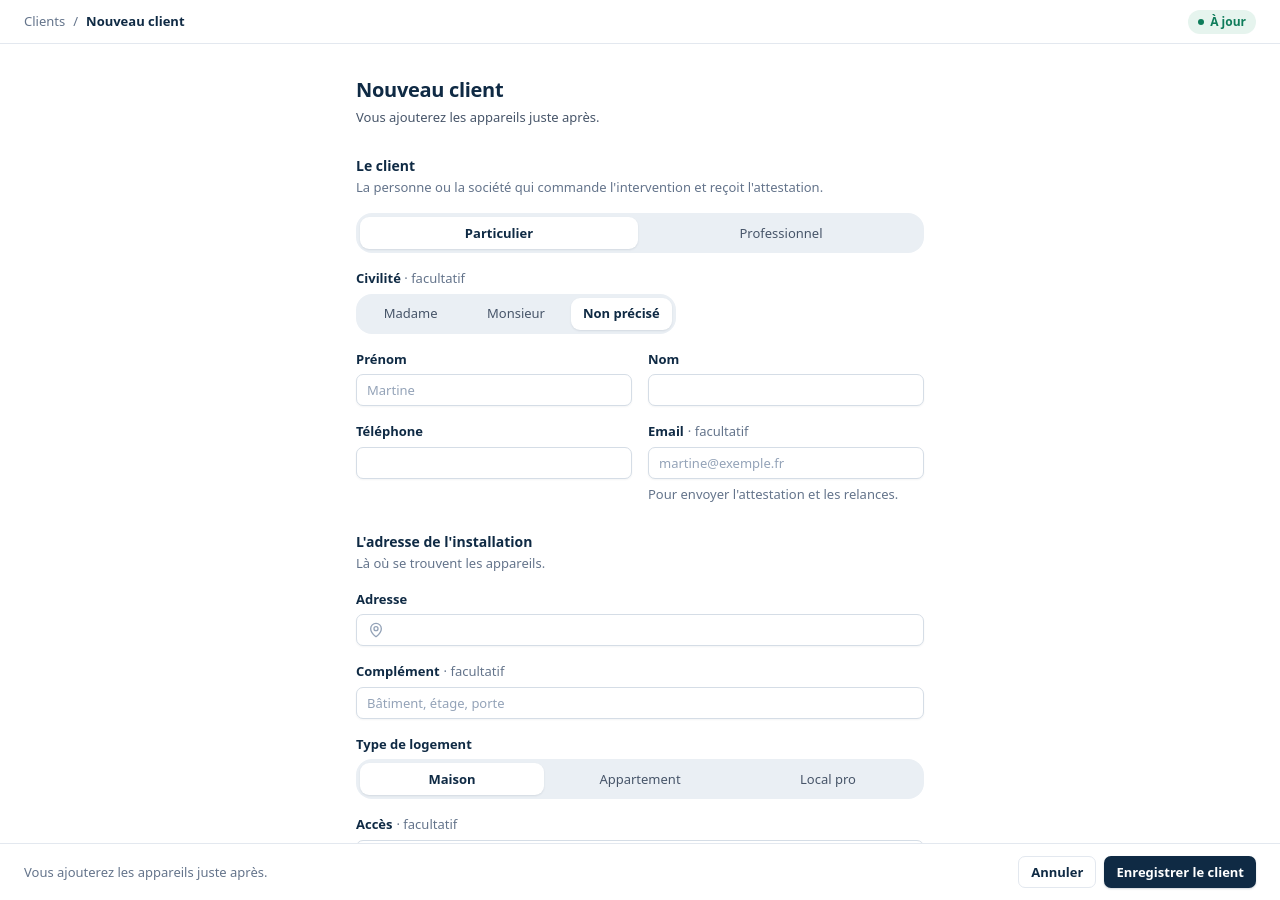
it: NewCustomerScreen › refuses an incomplete phone number, an invalid email and a short postal code
The width and height of the screenshot is (1280, 900).
In the field labelled "Nom": (786, 390) left=648, top=374, right=924, bottom=406, type "Moreau"
In the field labelled "Téléphone": (494, 463) left=356, top=447, right=632, bottom=479, type "06 12"
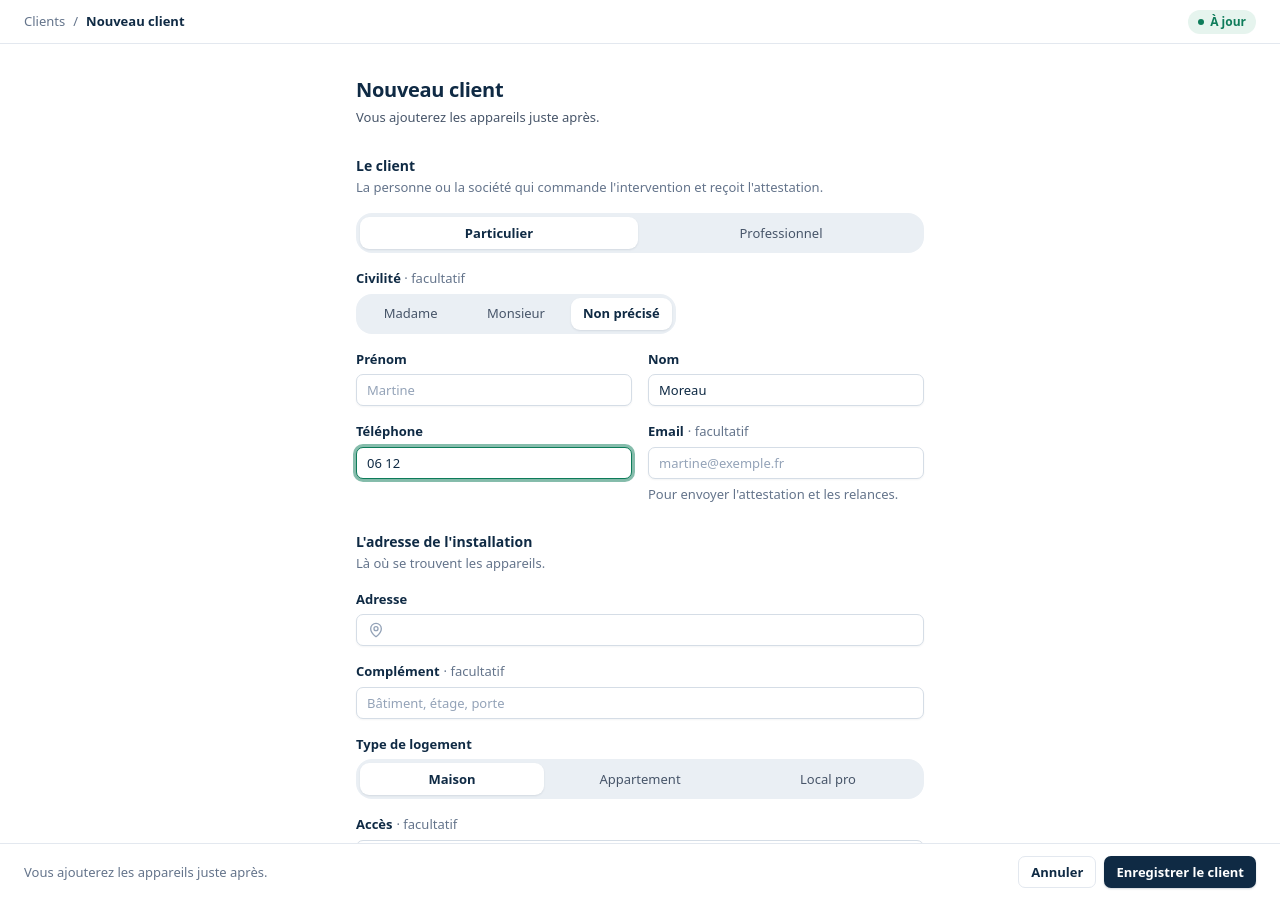
In the field labelled "Email · facultatif": (786, 463) left=648, top=447, right=924, bottom=479, type "martine@"
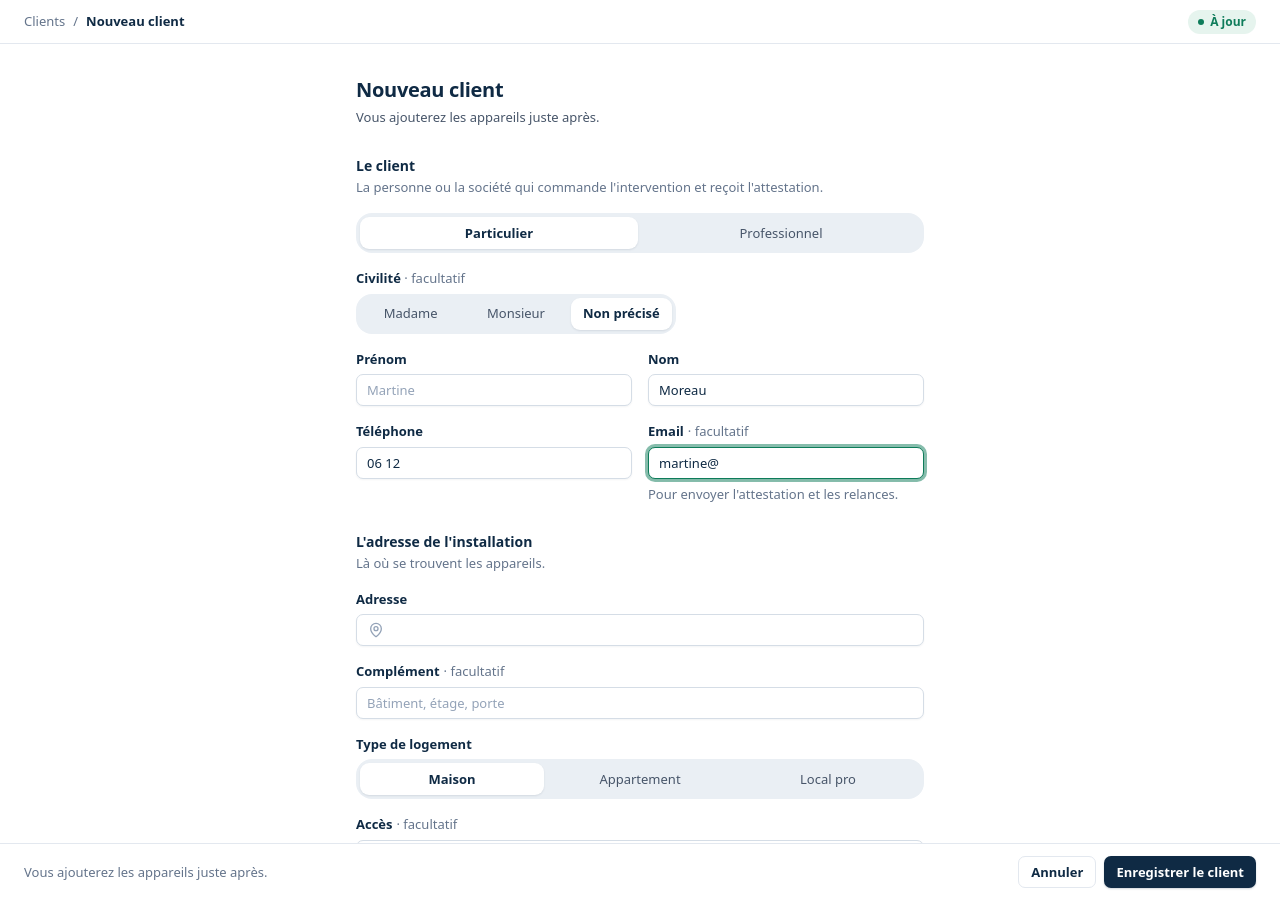
In the field labelled "Adresse": (640, 630) left=356, top=614, right=924, bottom=646, type "12 rue des Lilas"
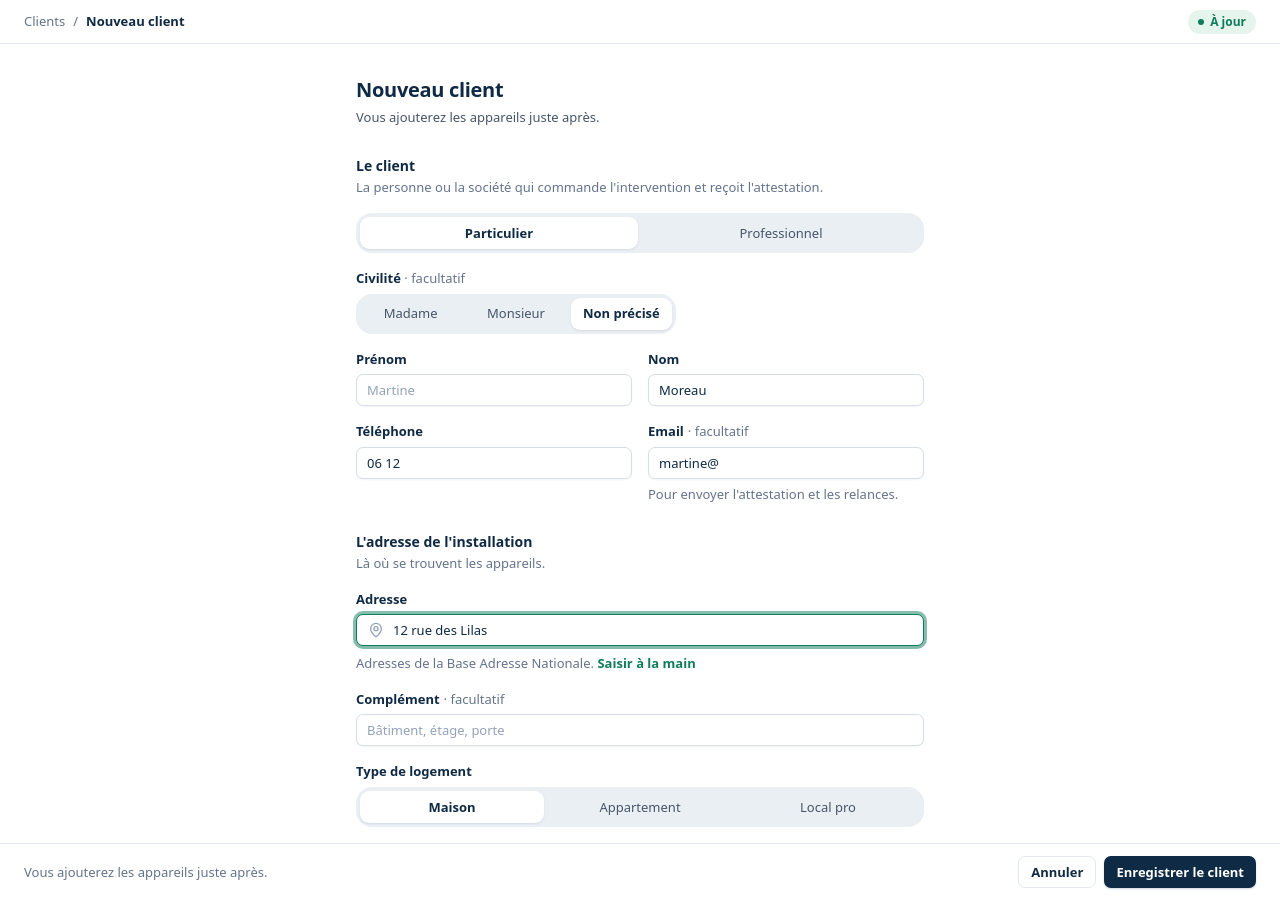
Click the button "Saisir à la main": click(647, 664) left=597, top=654, right=696, bottom=674
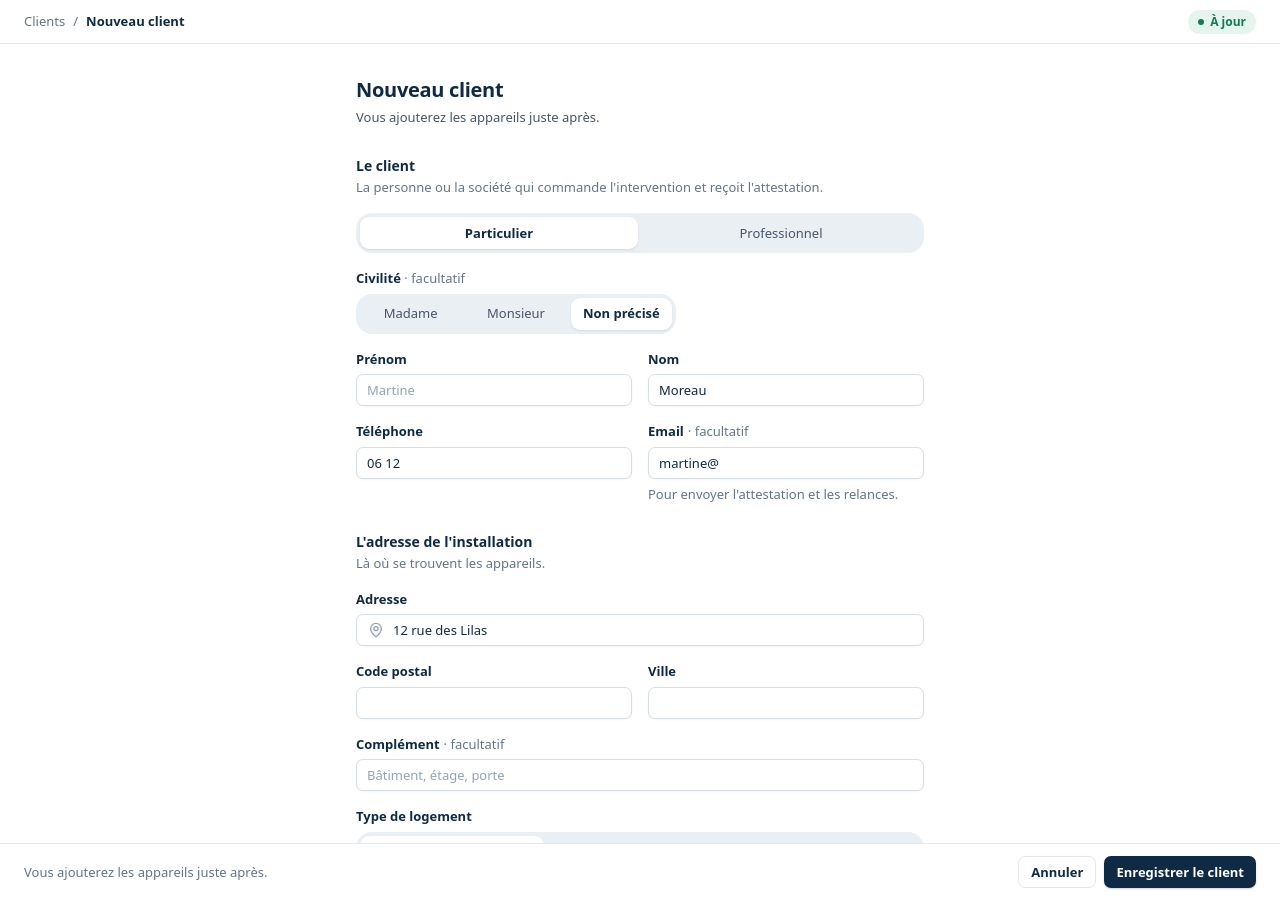
In the field labelled "Code postal": (494, 703) left=356, top=687, right=632, bottom=719, type "942"
In the field labelled "Ville": (786, 703) left=648, top=687, right=924, bottom=719, type "Ivry-sur-Seine"
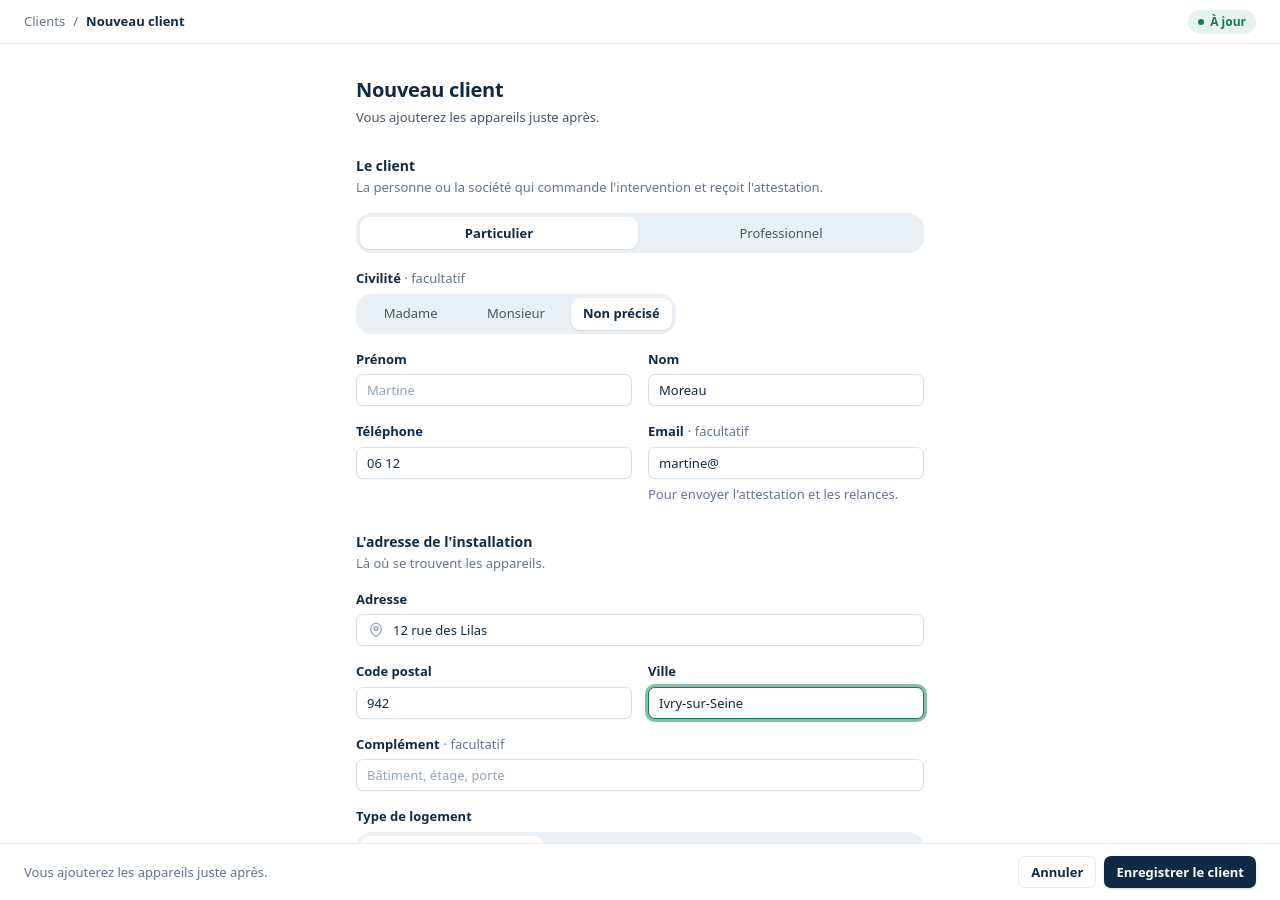
Click the button "Enregistrer le client": click(1180, 872) left=1104, top=856, right=1256, bottom=888
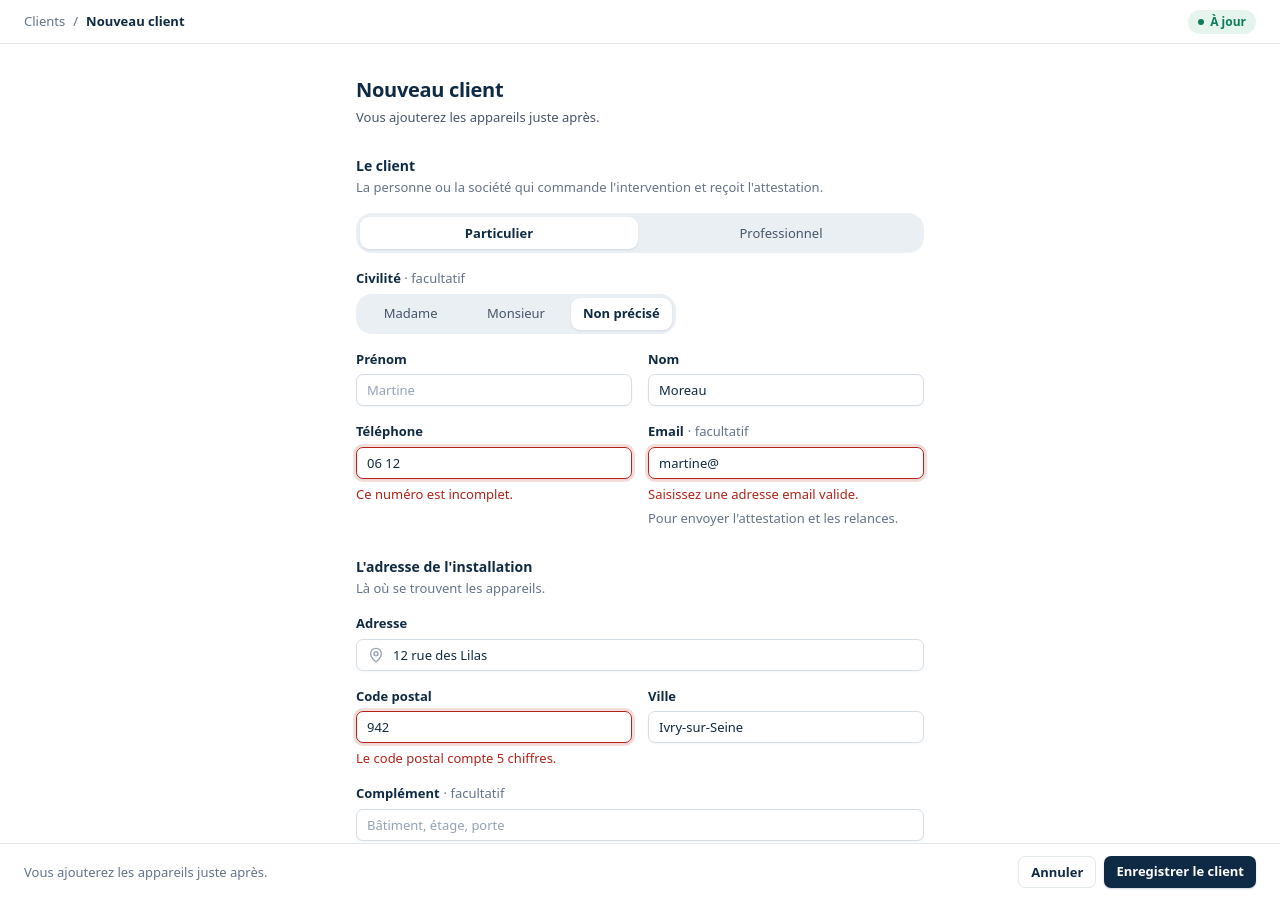
Result: the text "Ce numéro est incomplet." is shown at left=356, top=485, right=513, bottom=503
Result: the text "Saisissez une adresse email valide." is shown at left=648, top=485, right=858, bottom=503
Result: the text "Le code postal compte 5 chiffres." is shown at left=356, top=749, right=556, bottom=767
